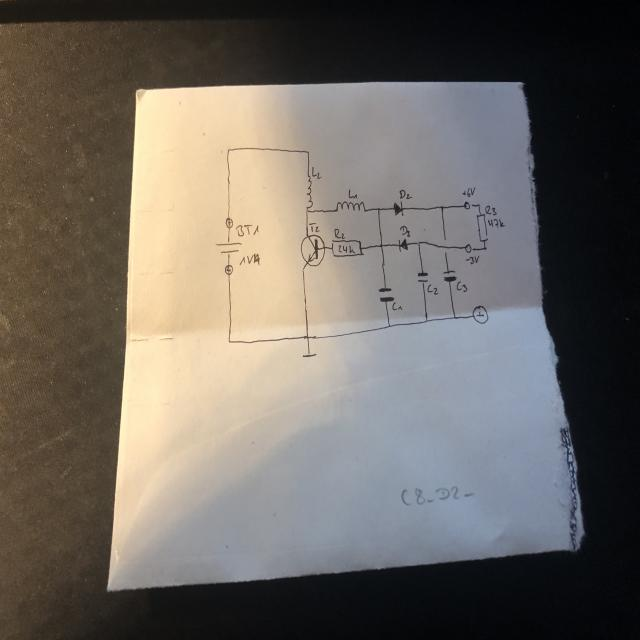capacitor: (378, 286, 394, 303), (443, 268, 457, 282), (417, 271, 429, 283)
crossover: (441, 236, 450, 258)
diode: (392, 200, 406, 217), (398, 237, 409, 252)
ground: (472, 304, 489, 326), (302, 347, 316, 358)
inductor: (336, 200, 366, 212), (305, 172, 313, 210)
junction: (424, 318, 430, 325), (416, 241, 422, 248), (440, 204, 445, 211), (300, 266, 305, 273), (226, 148, 231, 154), (482, 246, 488, 251), (379, 243, 384, 249), (476, 202, 481, 208), (387, 323, 392, 328), (453, 315, 458, 320), (306, 149, 310, 155), (306, 208, 310, 214), (228, 338, 232, 344), (376, 207, 380, 213), (306, 335, 310, 340)
resistor: (330, 238, 363, 258), (476, 213, 488, 242)
source: (214, 241, 243, 254)
text: (235, 224, 260, 236), (240, 252, 260, 266), (338, 243, 356, 254), (488, 218, 506, 228), (462, 186, 476, 198), (399, 189, 413, 201), (427, 283, 439, 295), (334, 228, 346, 240), (456, 280, 467, 293), (466, 255, 480, 265), (484, 205, 496, 216), (308, 222, 320, 233), (399, 225, 410, 237), (312, 166, 322, 179), (348, 188, 358, 200), (392, 302, 403, 311)
transistor: (299, 233, 326, 268)
